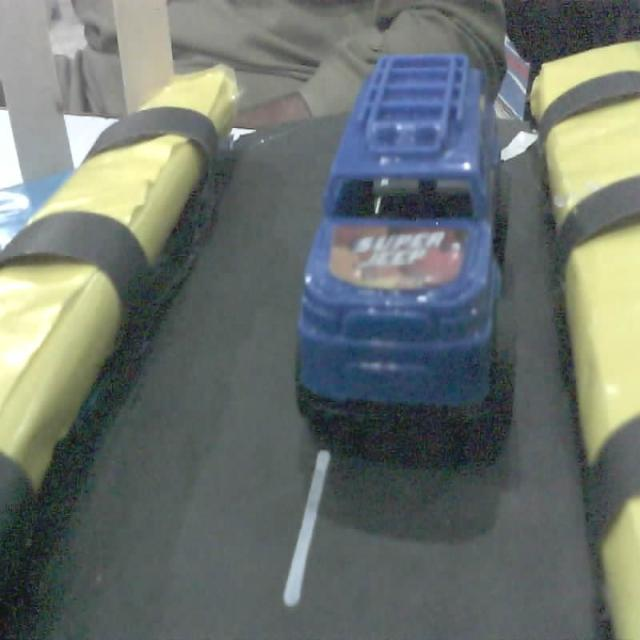OneCar: (278, 21, 530, 458)
